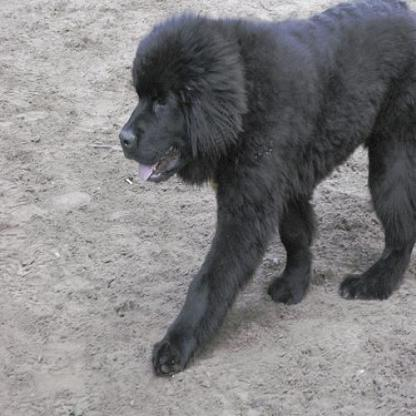Newfoundland: (119, 0, 414, 375)
